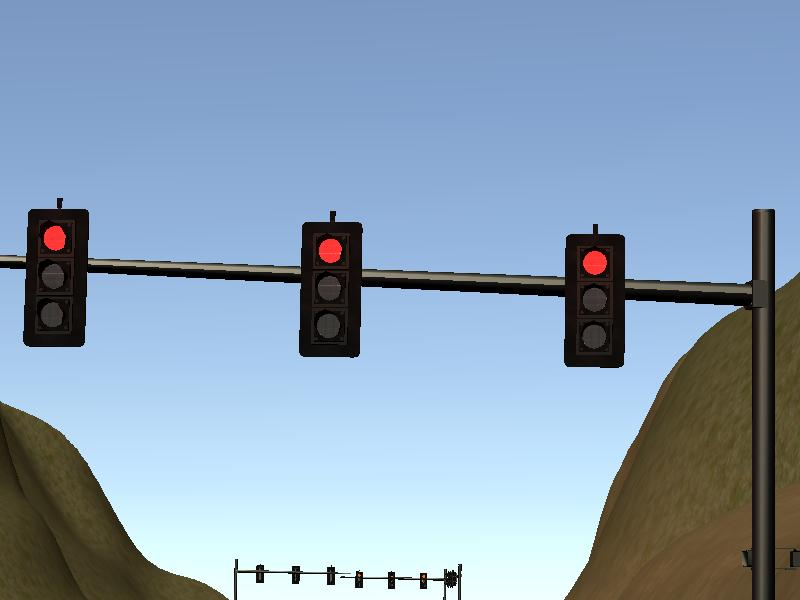red: (299, 217, 362, 358), (563, 231, 625, 369), (26, 207, 85, 348)
